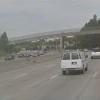Car: (54, 47, 89, 76)
